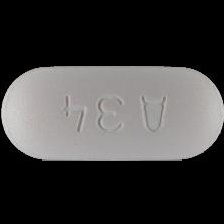16714-401: (0, 0, 224, 224)
